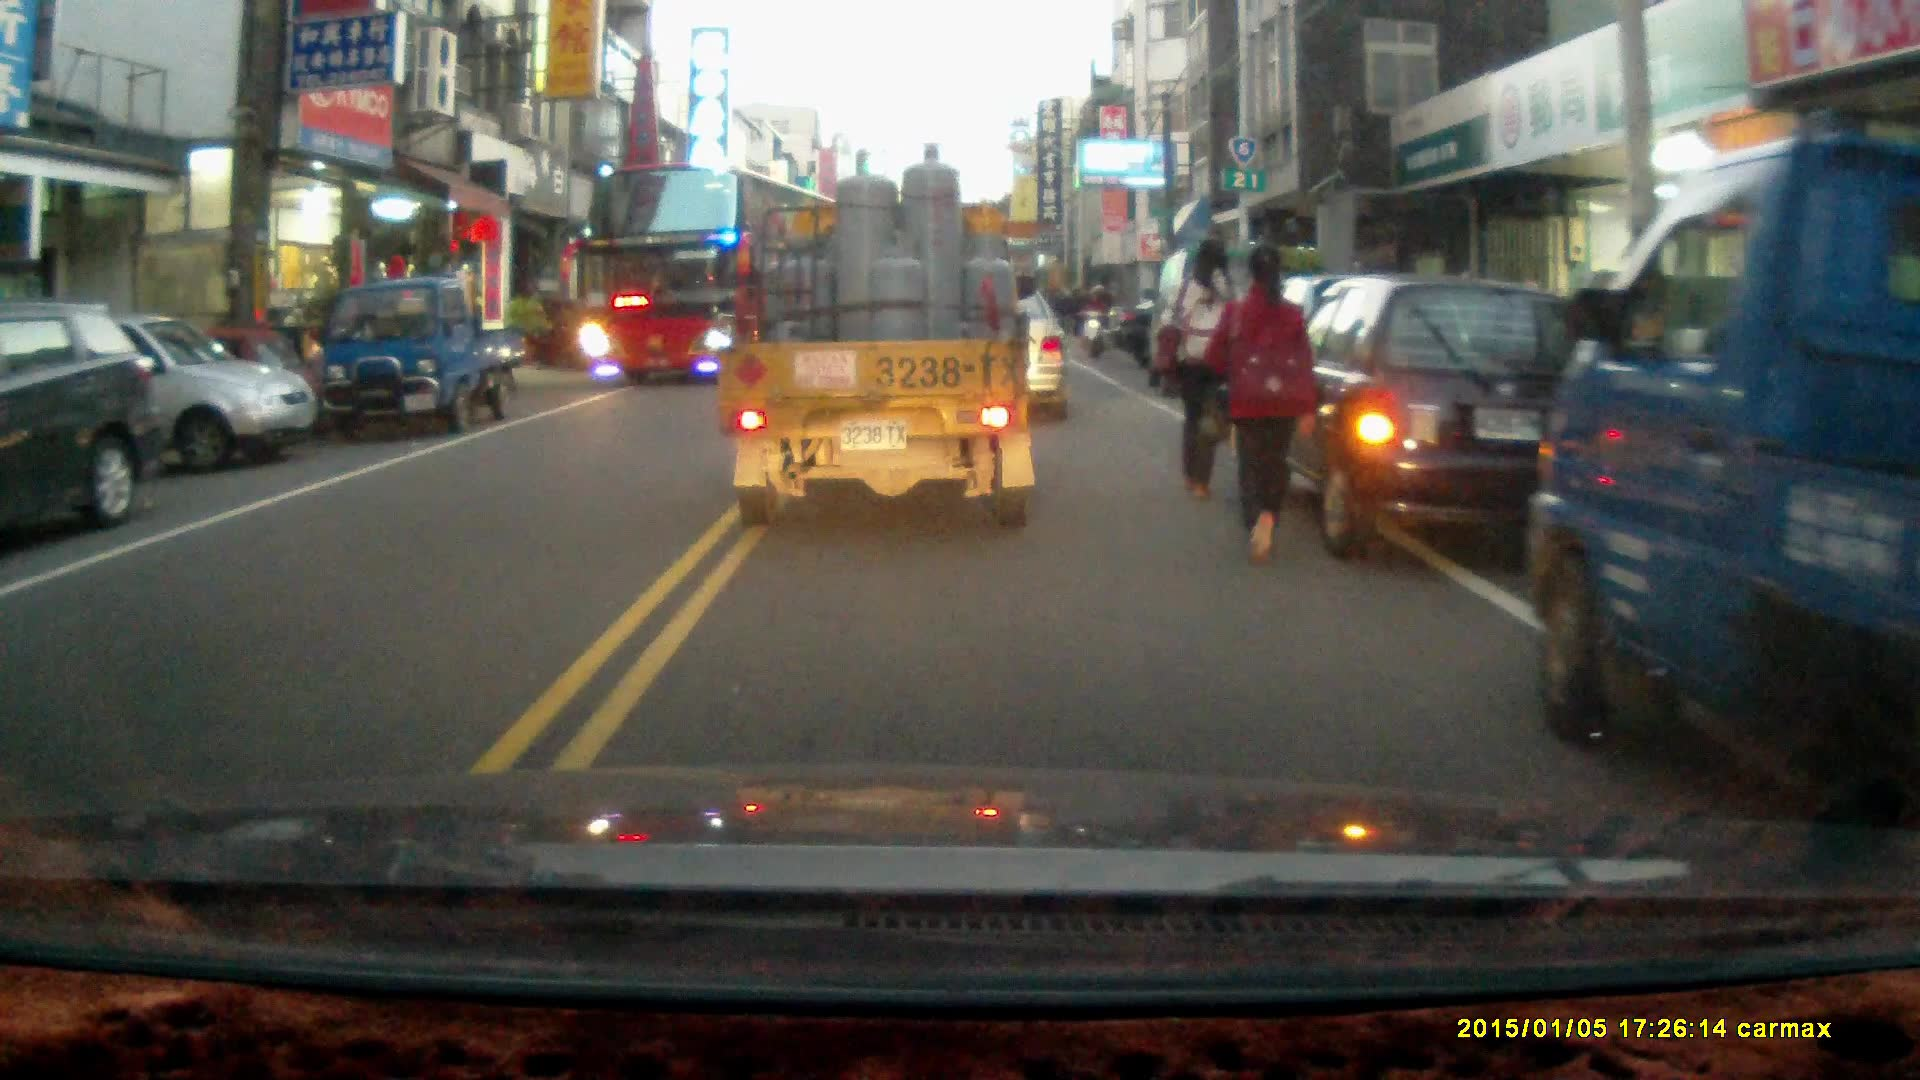pedestrian: (1204, 236, 1318, 563), (1158, 235, 1251, 504)
rider: (1079, 280, 1116, 357)
vehicle: (1530, 127, 1920, 835), (722, 139, 1044, 533), (1259, 277, 1627, 564), (582, 157, 853, 388), (1, 306, 324, 475), (1, 302, 172, 541), (316, 276, 527, 429)
